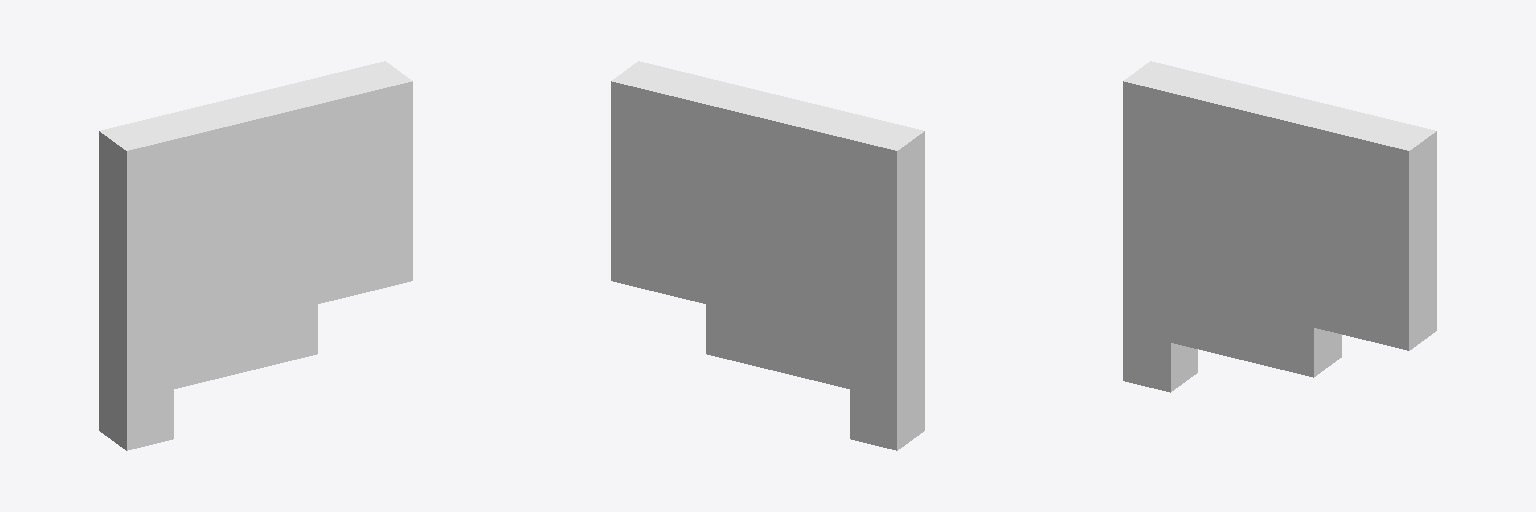
The model's file is YellowHouseParts-32.obj.
3 renders of one model, left to right at view 1: azimuth 30°, elevation 25°; view 2: azimuth 150°, elevation 25°; view 3: azimuth 330°, elevation 25°, orthographic.
Parts seen in each view (by area): view 1: object 1; view 2: object 1; view 3: object 1.
Boxes of the visible parts, x1,y1,x2,y2 form: object 1: [99, 61, 412, 450]; object 1: [611, 61, 924, 450]; object 1: [1123, 61, 1436, 392].
Size of the model in its own units: 0.6 by 0.6 by 0.1.